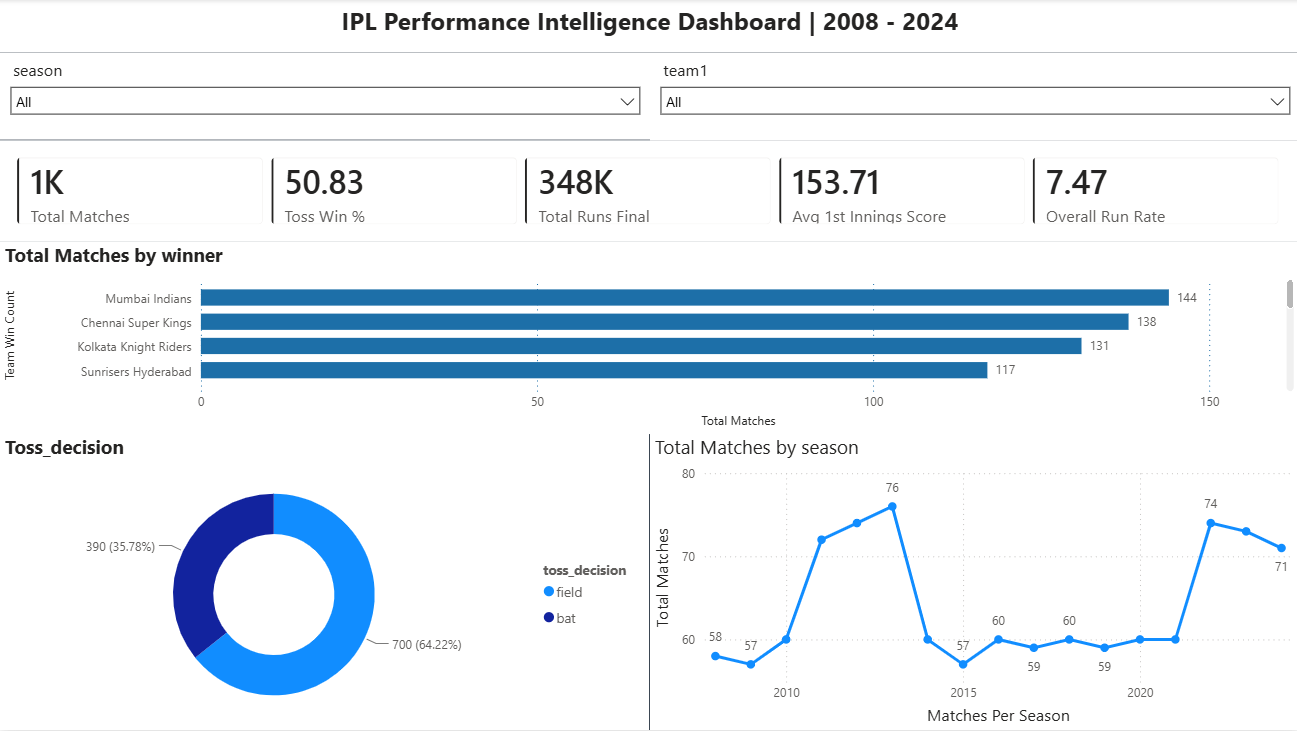

This screenshot's page, from the dashboard's own definition file:
{"tool":"powerbi","page":{"name":"Page 1","canvas":[1280,720],"ordinal":0},"visuals":[{"type":"textbox","box":[0,0,1280,52.9],"z":0},{"type":"slicer","fields":{"Values":["matches.season"]},"box":[0,52.4,640,85.8],"z":1000},{"type":"slicer","fields":{"Values":["matches.team1"]},"box":[640,52.9,640,86.3],"z":2000},{"type":"clusteredBarChart","fields":{"Category":["matches.winner"],"Y":["batsman_stats.Total Matches"]},"box":[0,238.8,1280,189.5],"z":3000},{"type":"donutChart","title":"Toss_decision","fields":{"Category":["matches.toss_decision"],"Y":["batsman_stats.Total Matches"]},"box":[0,428.9,639.6,291.7],"z":4000},{"type":"lineChart","fields":{"Category":["matches.season"],"Y":["batsman_stats.Total Matches"]},"box":[640,428,640,292],"z":5000},{"type":"cardVisual","fields":{"Data":["batsman_stats.Total Matches","batsman_stats.Toss Win %","batsman_stats.Total Runs Final","batsman_stats.Avg 1st Innings Score","batsman_stats.Overall Run Rate"]},"box":[0,139.1,1280,100.2],"z":7000}]}

Visuals, with their boxes in screenshot pixels (x1, y1, x2, y2), scaled from the page's 1280x720 canvas onto the 1297x731 screenshot:
textbox: {"left": 0, "top": 0, "right": 1296, "bottom": 54}
slicer - matches.season: {"left": 0, "top": 53, "right": 648, "bottom": 140}
slicer - matches.team1: {"left": 648, "top": 54, "right": 1296, "bottom": 141}
clusteredBarChart - matches.winner x batsman_stats.Total Matches: {"left": 0, "top": 242, "right": 1296, "bottom": 435}
"Toss_decision" donutChart: {"left": 0, "top": 435, "right": 648, "bottom": 730}
lineChart - matches.season x batsman_stats.Total Matches: {"left": 648, "top": 435, "right": 1296, "bottom": 730}
cardVisual - batsman_stats.Total Matches x batsman_stats.Toss Win %: {"left": 0, "top": 141, "right": 1296, "bottom": 243}
